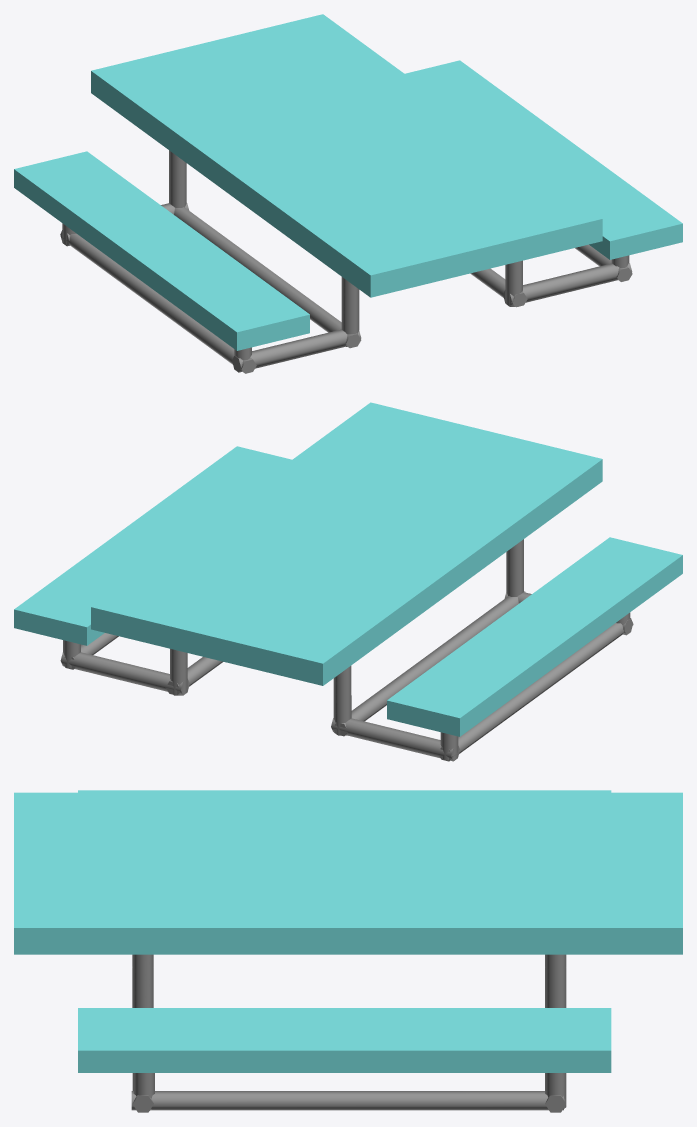
File: TableOfTables.FBX
The picture shows the model from 3 angles, top to bottom: view 1: azimuth 30°, elevation 25°; view 2: azimuth 150°, elevation 25°; view 3: azimuth 270°, elevation 25°; orthographic projection. The views are drawn at different scales.
Parts seen in each view (by area): view 1: Box007, Box013, Box014, Cylinder014, Cylinder012, Cylinder020, Cylinder009, Cylinder024, Cylinder013, Cylinder007, Cylinder017, Cylinder021 (+1 smaller); view 2: Box007, Box013, Box014, Cylinder014, Cylinder018, Cylinder025, Cylinder009, Cylinder024, Cylinder007, Cylinder013, Cylinder016, Cylinder017; view 3: Box007, Box014, Cylinder022, Box013, Cylinder021, Cylinder016, Cylinder015, Cylinder019.
Part boxes in pixels (x1=…): Box007: x1=91, y1=14, x2=602, y2=297; Box013: x1=14, y1=151, x2=309, y2=350; Box014: x1=405, y1=60, x2=682, y2=259; Cylinder014: x1=61, y1=233, x2=256, y2=373; Cylinder012: x1=232, y1=329, x2=361, y2=372; Cylinder020: x1=503, y1=263, x2=632, y2=305; Cylinder009: x1=174, y1=208, x2=349, y2=347; Cylinder024: x1=175, y1=207, x2=361, y2=348; Cylinder013: x1=341, y1=277, x2=359, y2=346; Cylinder007: x1=169, y1=150, x2=186, y2=207; Cylinder017: x1=470, y1=268, x2=527, y2=307; Cylinder021: x1=505, y1=260, x2=522, y2=306; Box007: x1=91, y1=402, x2=602, y2=685; Box013: x1=387, y1=537, x2=682, y2=736; Box014: x1=14, y1=446, x2=291, y2=645; Cylinder014: x1=439, y1=623, x2=633, y2=761; Cylinder018: x1=60, y1=652, x2=189, y2=695; Cylinder025: x1=331, y1=718, x2=459, y2=761; Cylinder009: x1=333, y1=592, x2=524, y2=736; Cylinder024: x1=343, y1=591, x2=525, y2=723; Cylinder007: x1=333, y1=666, x2=351, y2=735; Cylinder013: x1=506, y1=539, x2=523, y2=596; Cylinder016: x1=170, y1=649, x2=187, y2=695; Cylinder017: x1=166, y1=657, x2=223, y2=695; Box007: x1=14, y1=792, x2=682, y2=954; Box014: x1=78, y1=1008, x2=611, y2=1072; Cylinder022: x1=131, y1=1091, x2=563, y2=1110; Box013: x1=78, y1=790, x2=611, y2=792; Cylinder021: x1=132, y1=954, x2=153, y2=1007; Cylinder016: x1=545, y1=954, x2=566, y2=1007; Cylinder015: x1=545, y1=1073, x2=566, y2=1108; Cylinder019: x1=133, y1=1073, x2=154, y2=1110.
Size of the model in its own units: 405 by 101 by 440.
